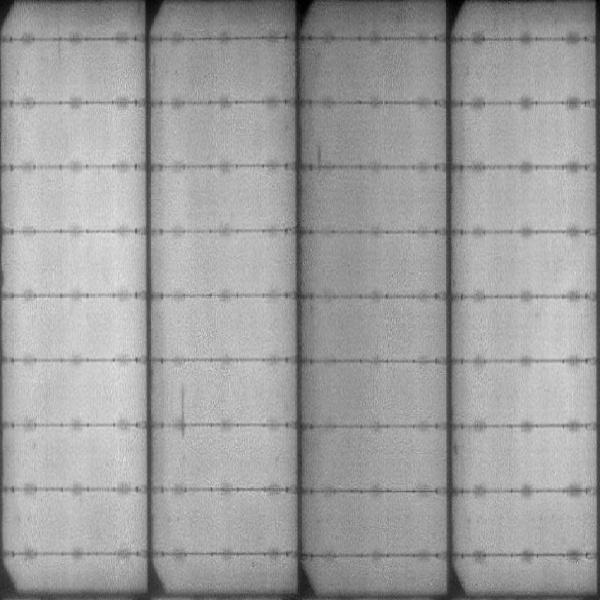scratch: (178, 388, 188, 433)
